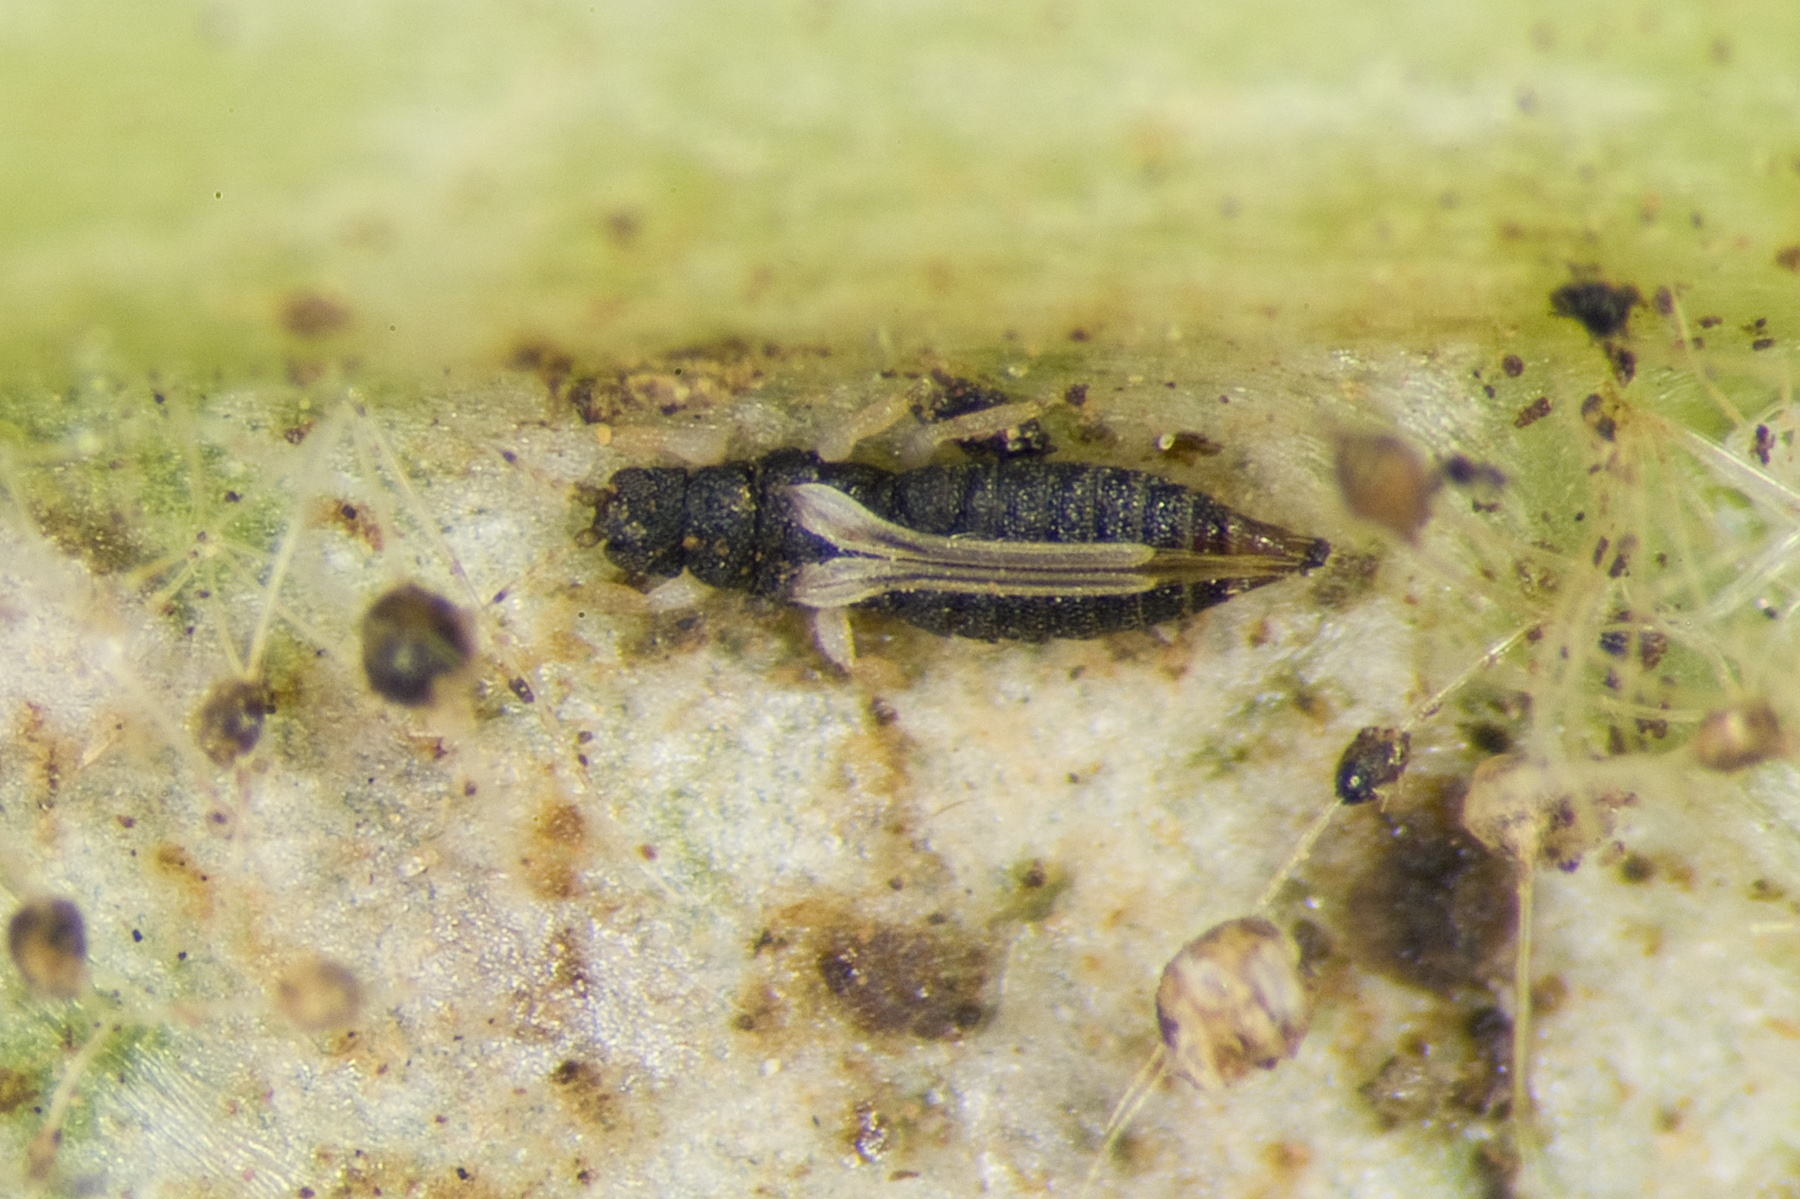Thrips: (544, 397, 1360, 711)
